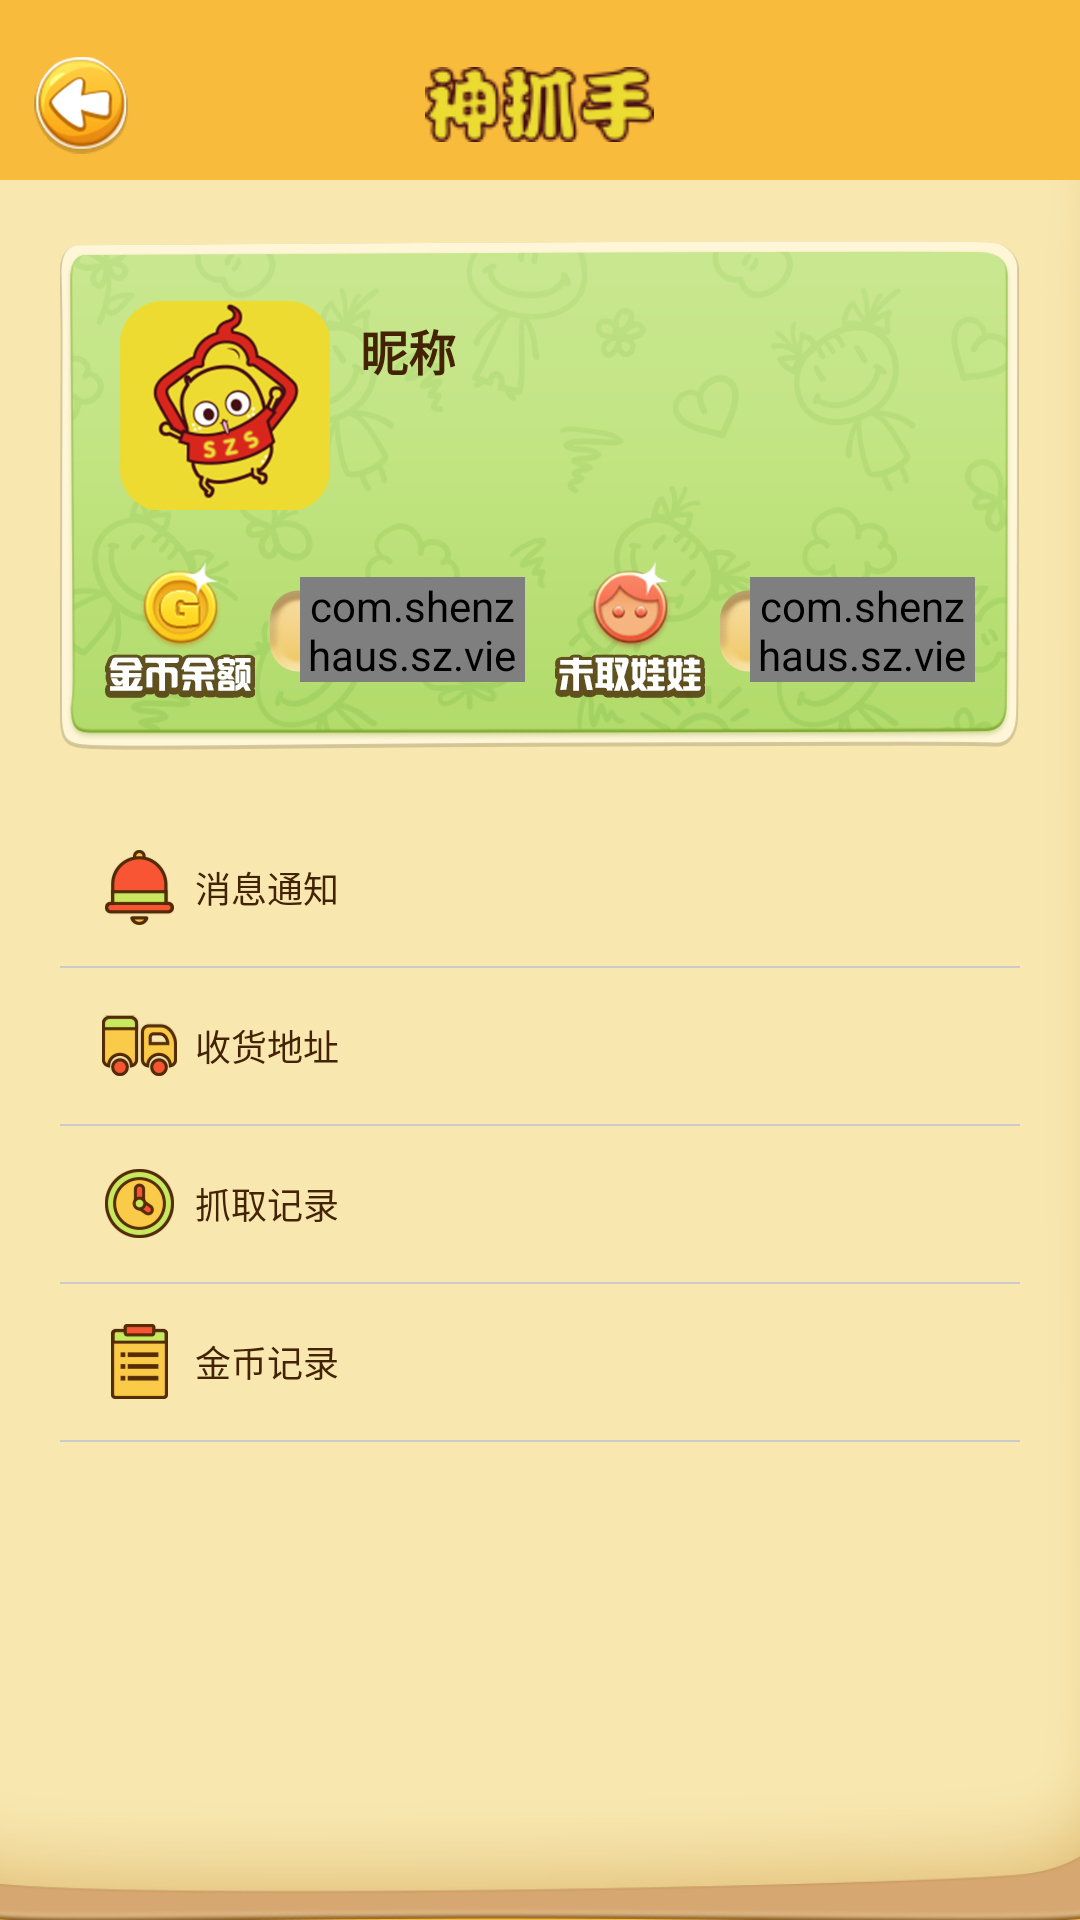

Point at icon controls on the screen. Image size 1080×1920, points as (x=x, y=y).
player back: (x=81, y=105)
